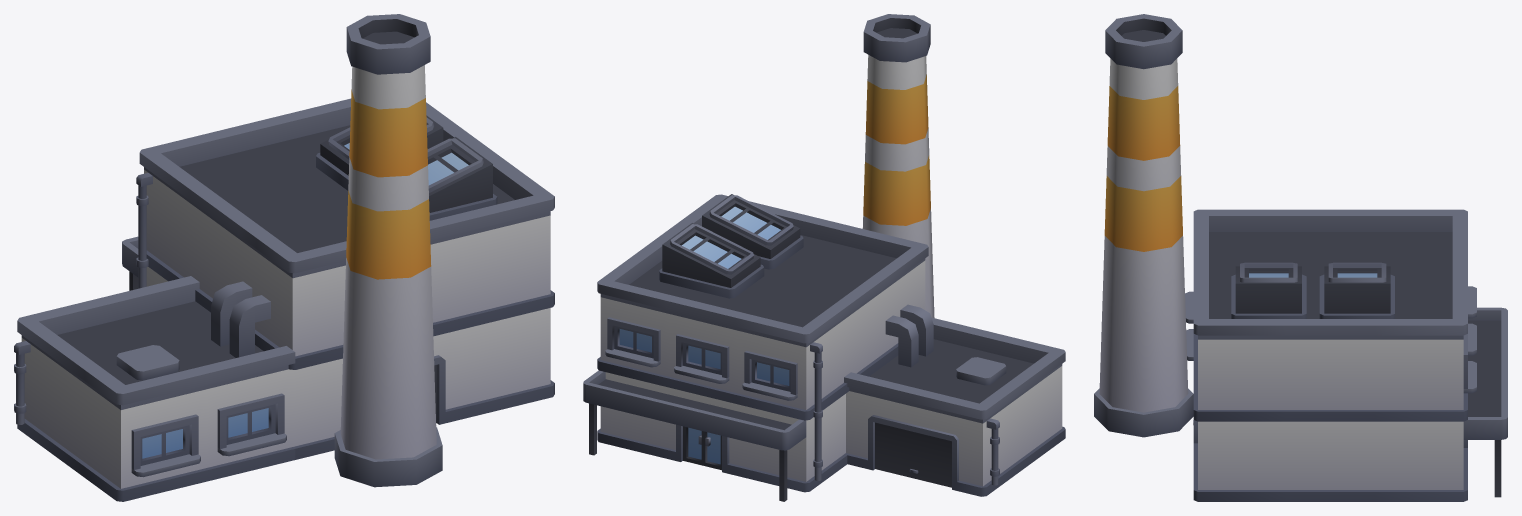
File: building-l.glb
3 views of the same model, side by side, from view 1: azimuth 30°, elevation 25°; view 2: azimuth 150°, elevation 25°; view 3: azimuth 270°, elevation 25° (orthographic). The views are drawn at different scales.
Visible parts, largest first — view 1: building-l; view 2: building-l; view 3: building-l.
Part boxes in pixels (x1,y1,x2,y2): building-l: (14, 14, 554, 501); building-l: (583, 14, 1065, 501); building-l: (1094, 14, 1507, 501).
Size of the model in its own units: 2.08 by 1.92 by 1.87.
